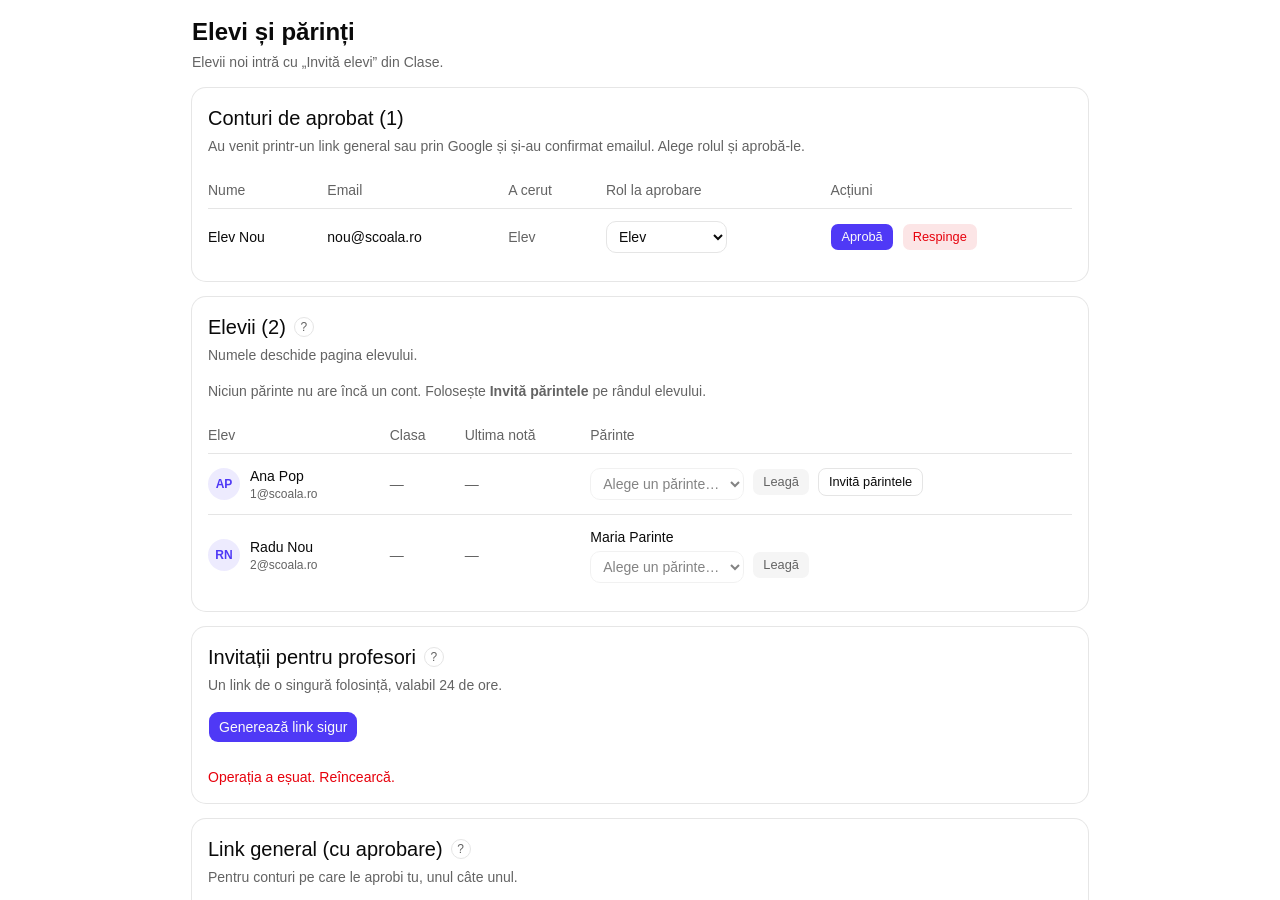
AdminStudentsPage › shows waiting accounts only while someone waits, and lists an approved student right away
Check: the element with test id "pending-accounts" shows "Conturi de aprobat (1)", box [192, 88, 1088, 281]
Check: the element with test id "pending-accounts" shows "Elev", box [508, 229, 536, 245]
Click the button "Aprobă".
click(862, 237)  # box [830, 223, 894, 251]
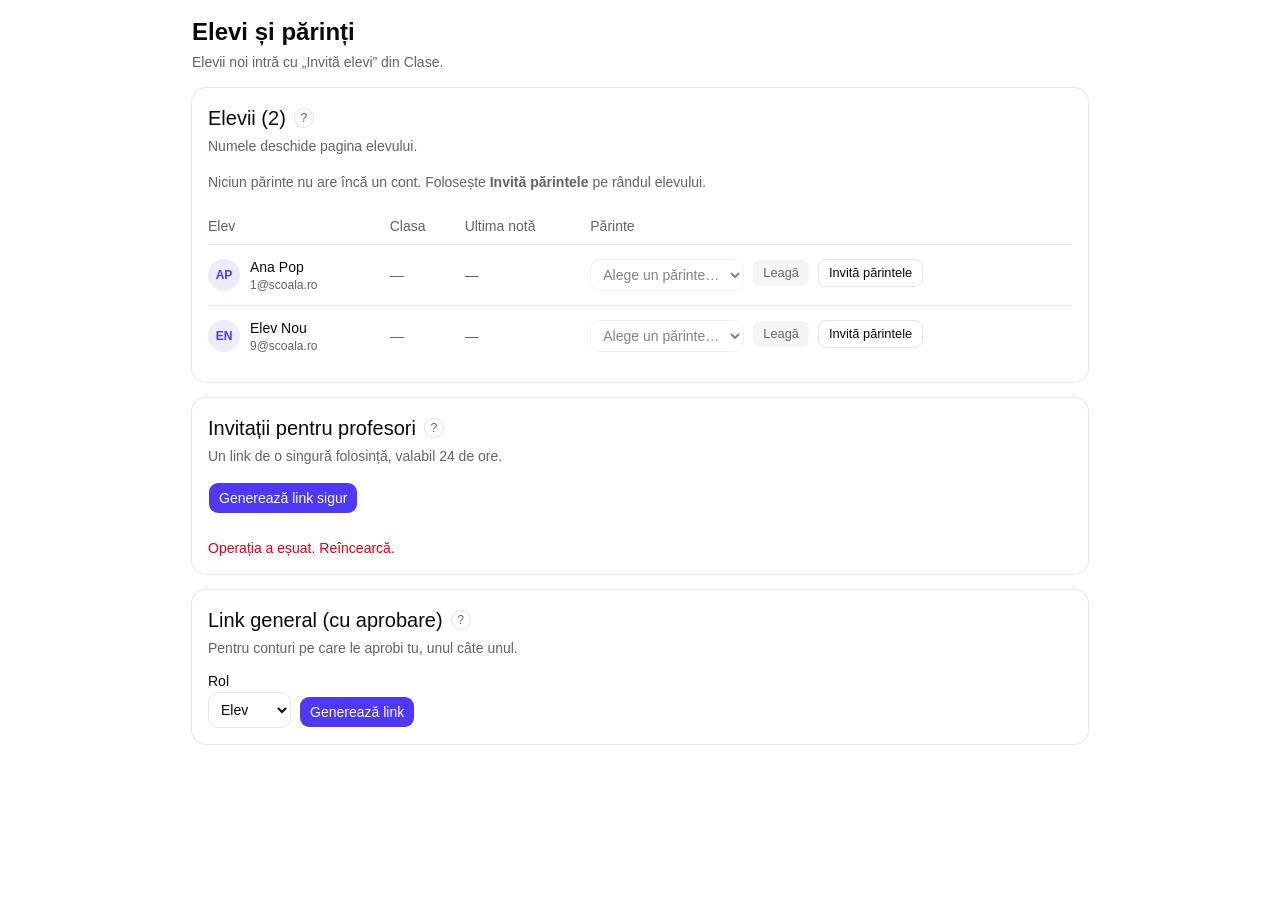
Check: the link "Elev Nou" is shown, box [250, 320, 307, 336]
Check: the element with test id "pending-accounts" is gone
